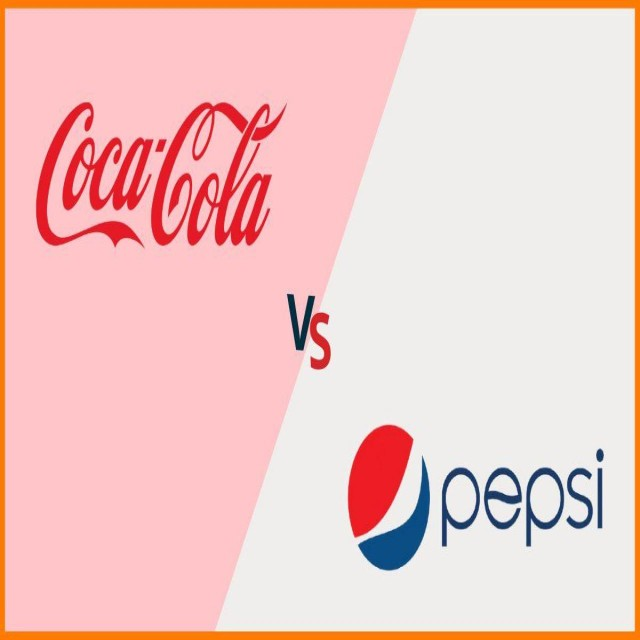pepsi: (345, 422, 433, 576)
